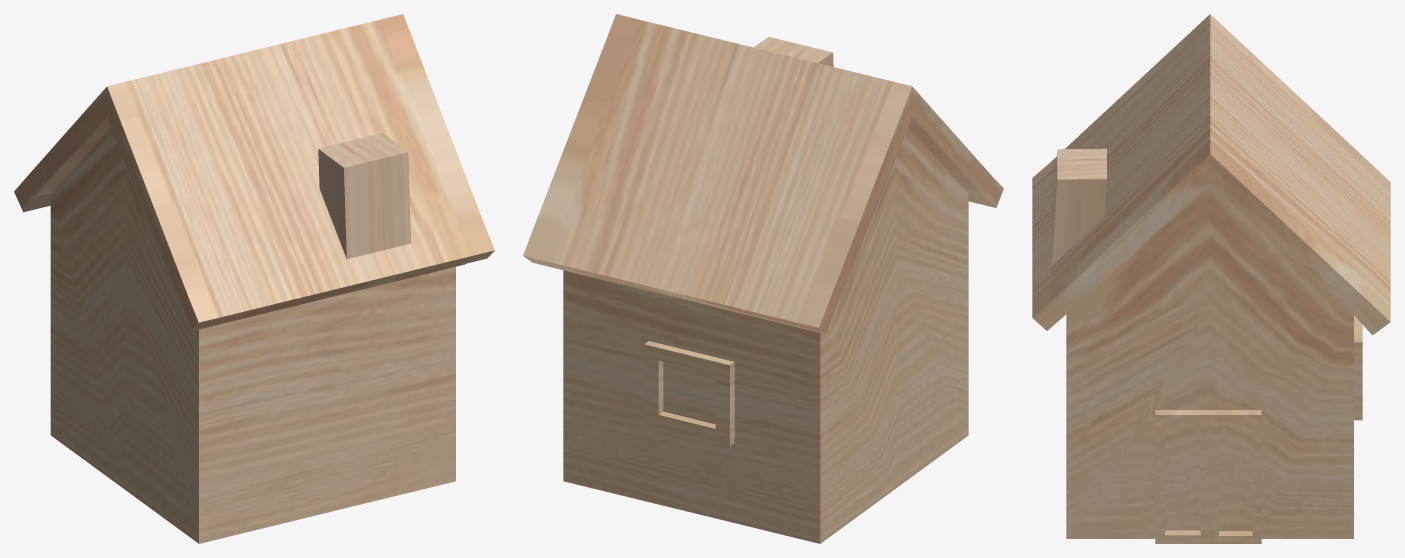
The model's file is house.fbx.
The picture shows the model from 3 angles, left to right: view 1: azimuth 30°, elevation 25°; view 2: azimuth 150°, elevation 25°; view 3: azimuth 270°, elevation 25°; orthographic projection. The views are drawn at different scales.
Parts seen in each view (by area): view 1: Cube; view 2: Cube; view 3: Cube.
Boxes of the visible parts, <box> form: Cube: <box>14,14,494,543</box>; Cube: <box>523,14,1003,543</box>; Cube: <box>1032,14,1390,543</box>.
Size of the model in its own units: 231 by 303 by 249.
1 material, 1 textured.
